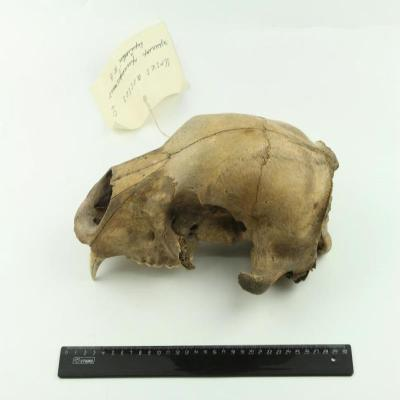natural_science_collection: (73, 113, 340, 296)
